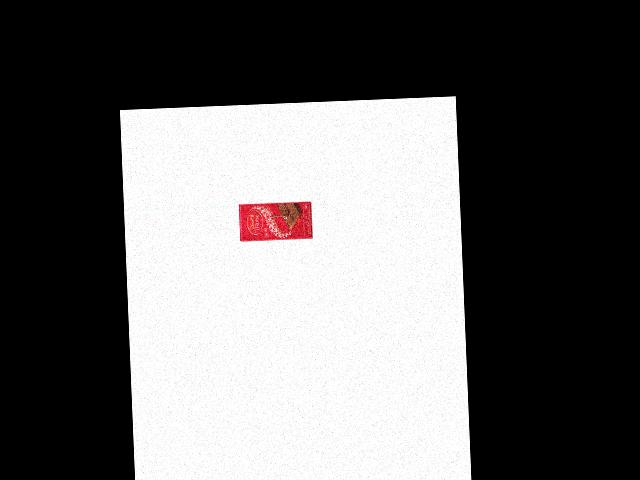chocolate: (238, 197, 312, 243)
